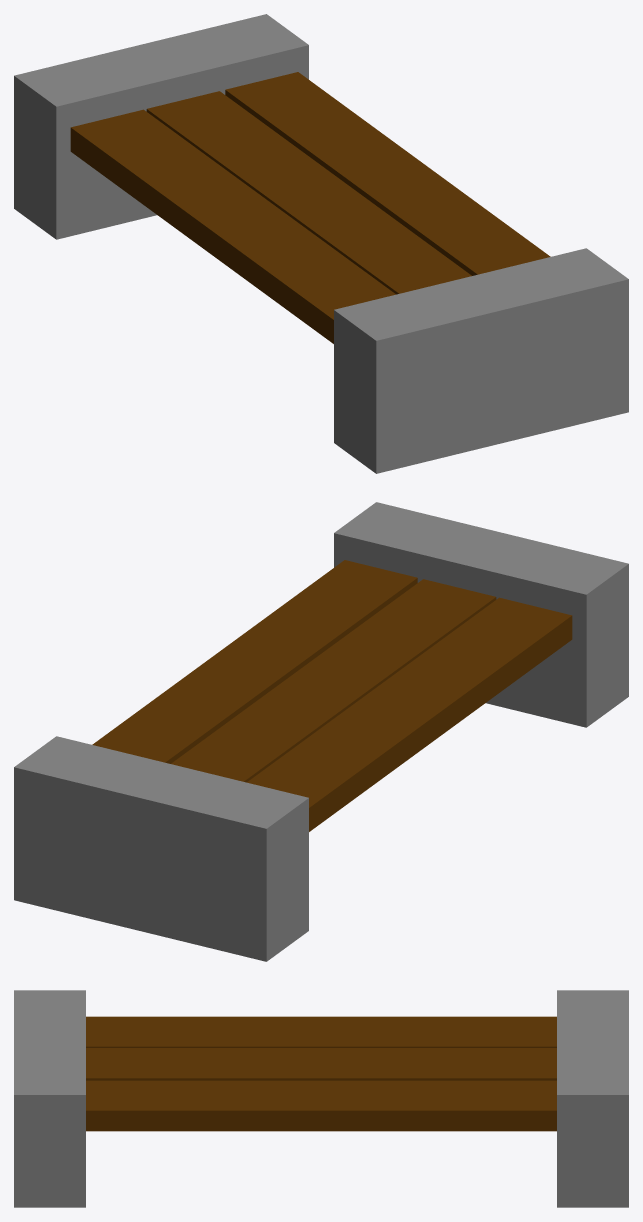
The model's file is Bench3.fbx.
3 renders of one model, top to bottom at view 1: azimuth 30°, elevation 25°; view 2: azimuth 150°, elevation 25°; view 3: azimuth 270°, elevation 25°, orthographic. The views are drawn at different scales.
Parts seen in each view (by area): view 1: Bench3; view 2: Bench3; view 3: Bench3.
Boxes of the visible parts, bbox=[...] form: Bench3: bbox=[14, 14, 628, 473]; Bench3: bbox=[14, 502, 628, 961]; Bench3: bbox=[14, 990, 628, 1207].
Bounding box in the file's own units: 72.33 × 36.39 × 180.
